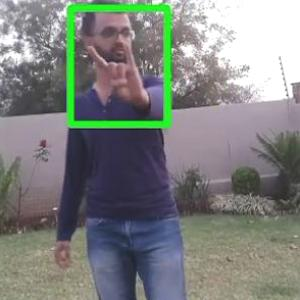takeoff-hand: (82, 39, 149, 107)
